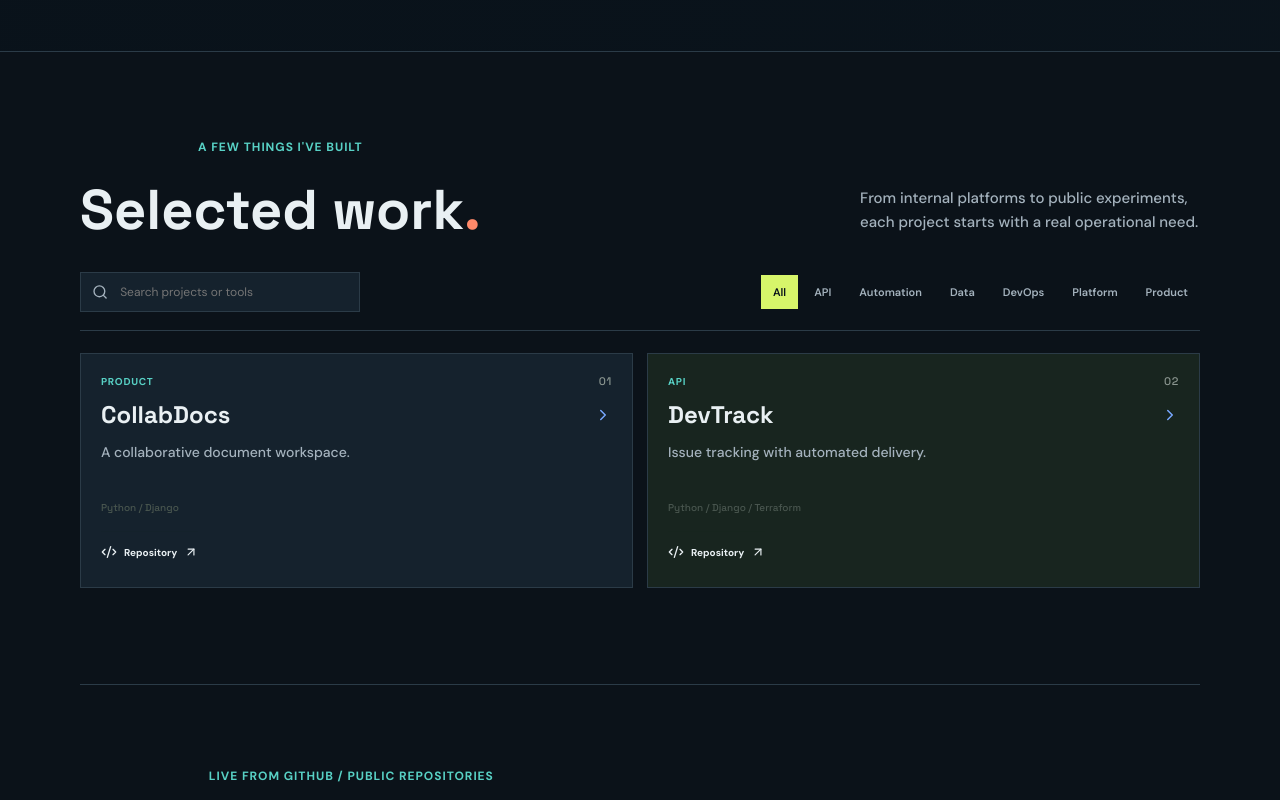
it: portfolio website › opens and closes accessible project details
(page scrolled)
Click the button with aria-label "View details for DevTrack" at [924, 444], box [668,374,1179,514]
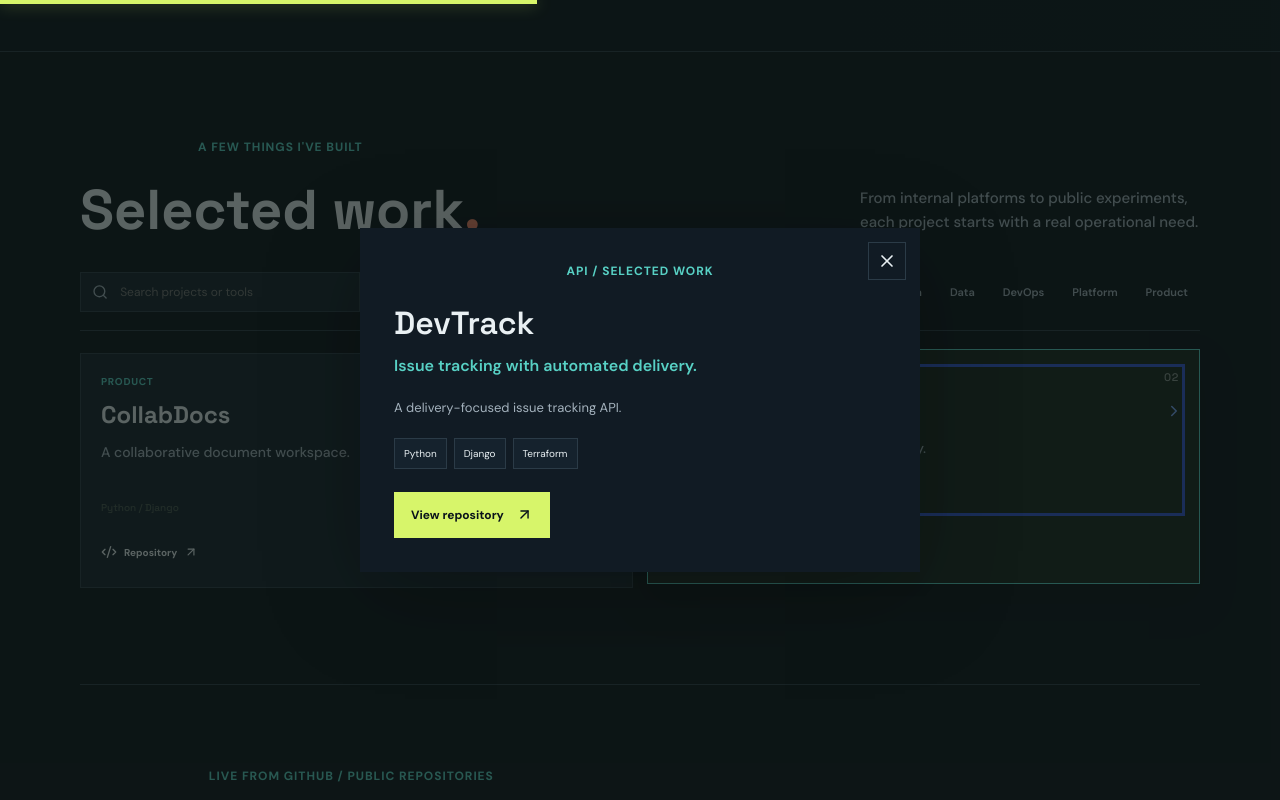
Expected: the dialog is shown, [360,228,920,572]
Click the button named "Close project details" at [887, 261], box [868,242,906,280]
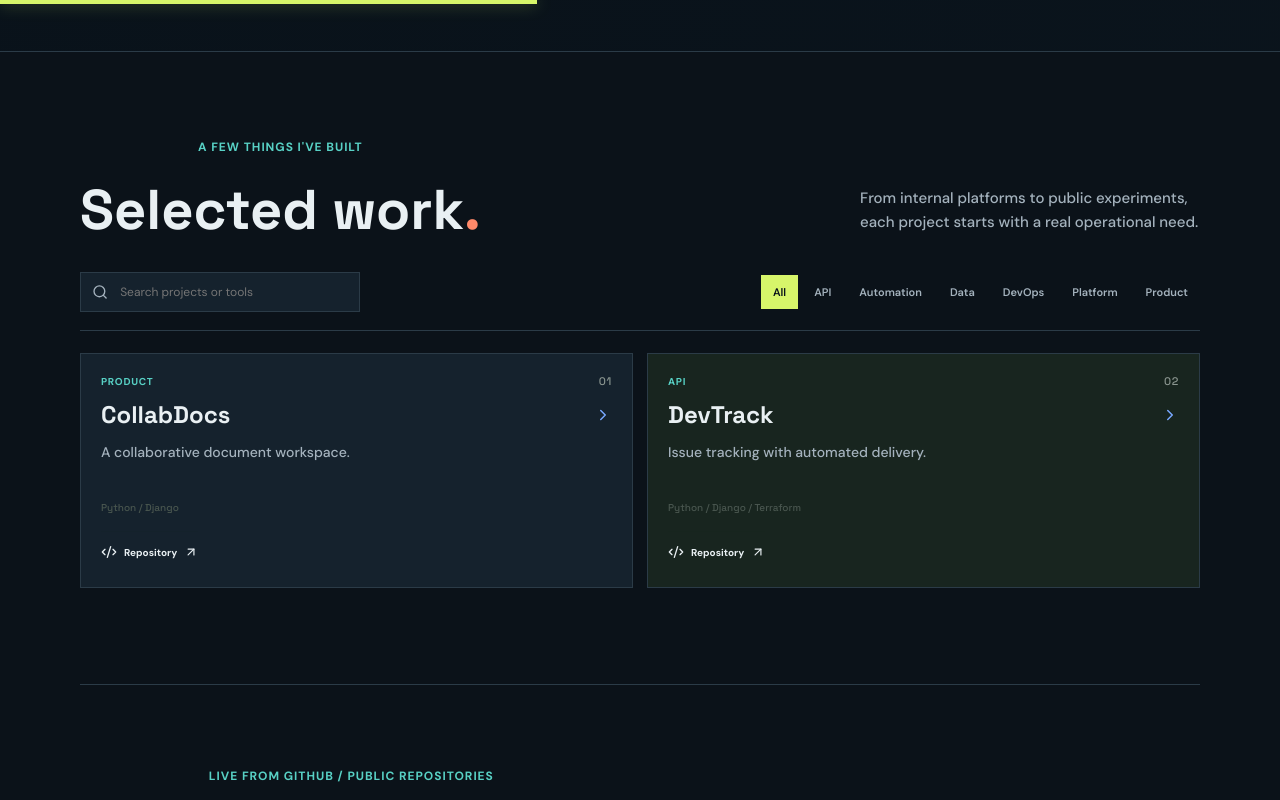
Expected: the dialog is gone
